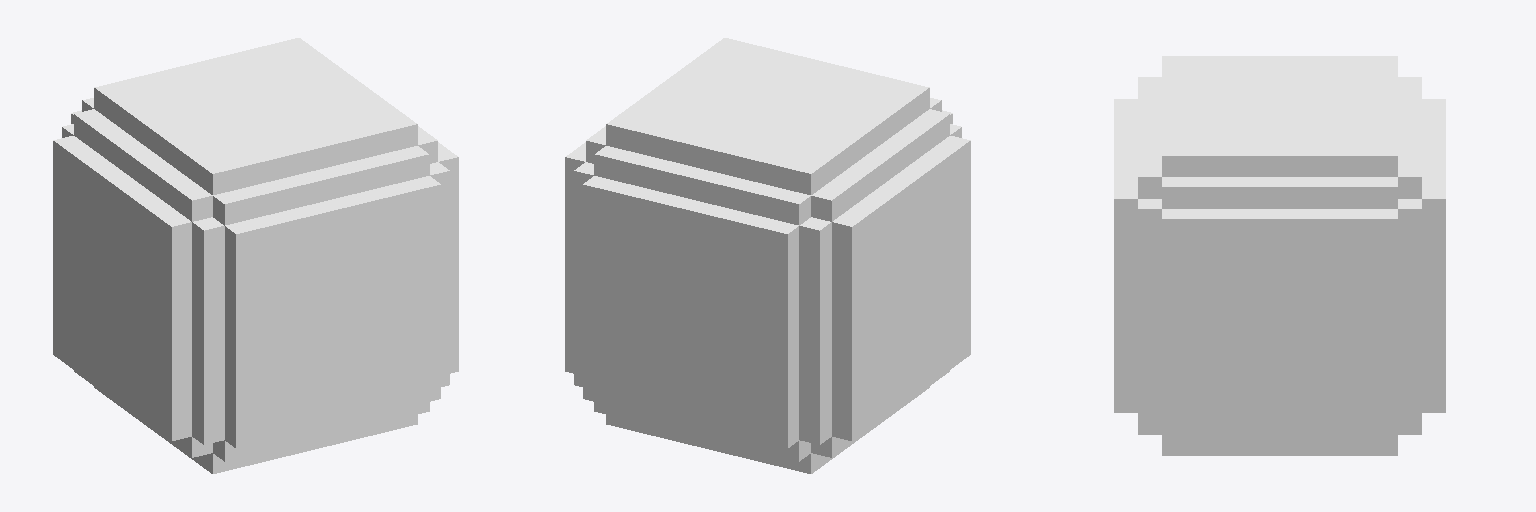
File: slime_a-2-stand.obj
The picture shows the model from 3 angles: view 1: azimuth 30°, elevation 25°; view 2: azimuth 150°, elevation 25°; view 3: azimuth 270°, elevation 25°; orthographic projection.
Parts seen in each view (by area): view 1: stand; view 2: stand; view 3: stand.
Boxes of the visible parts, x1=… form: stand: x1=53, y1=38, x2=458, y2=473; stand: x1=565, y1=38, x2=970, y2=473; stand: x1=1114, y1=56, x2=1445, y2=455.
Bounding box in the file's own units: 1.4 × 1.4 × 1.4.